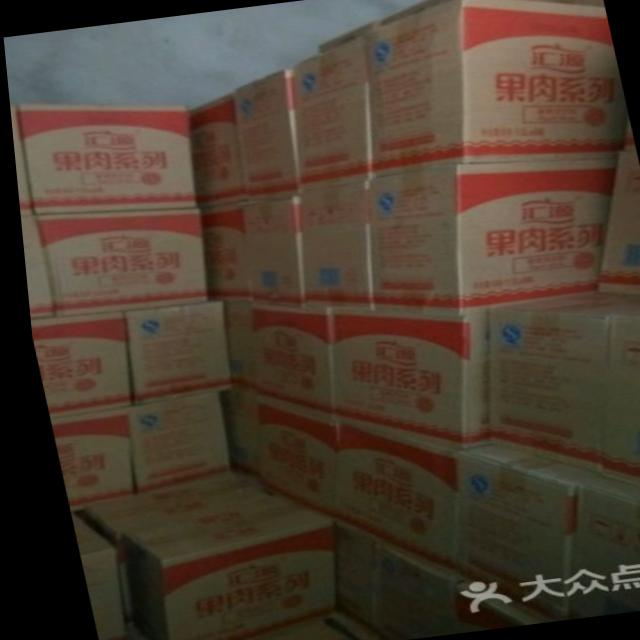box: (362, 0, 616, 182), (63, 471, 321, 640), (364, 155, 614, 313), (474, 289, 640, 487), (437, 445, 601, 622), (324, 311, 482, 450), (12, 105, 195, 215), (34, 202, 201, 318), (325, 423, 447, 575), (216, 393, 333, 530), (288, 21, 370, 194), (321, 527, 446, 640), (214, 302, 325, 421), (113, 298, 230, 409), (551, 473, 640, 615), (24, 310, 124, 420), (295, 179, 378, 310), (123, 392, 220, 493), (225, 63, 295, 200), (44, 408, 132, 509), (63, 510, 123, 640), (235, 192, 300, 308), (595, 154, 640, 298), (184, 93, 230, 206), (194, 202, 239, 301)
